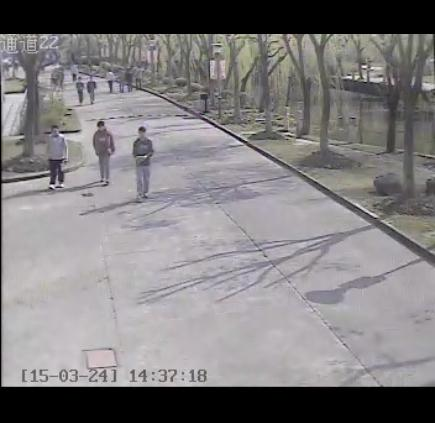person: (130, 121, 157, 205), (43, 121, 71, 193), (91, 118, 117, 188), (83, 73, 100, 107), (74, 74, 86, 106), (104, 67, 117, 95), (133, 64, 146, 91)
